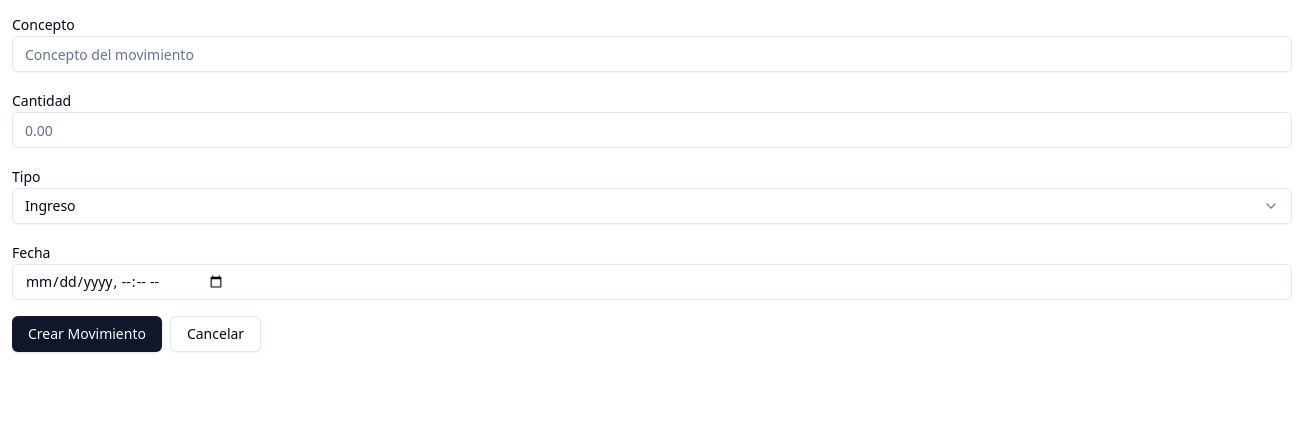
MovementForm Component › Create Mode › should validate required fields
The width and height of the screenshot is (1304, 442).
Click the button "Crear Movimiento" at (87, 334), box [12,316,162,352]
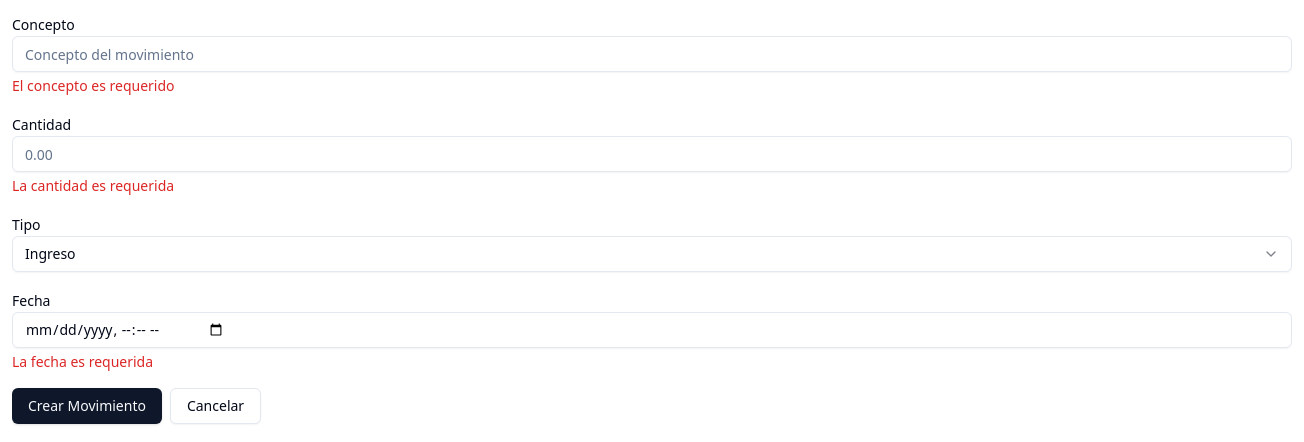
Expected: the text "El concepto es requerido" is shown, [12,76,174,95]
Expected: the text "La cantidad es requerida" is shown, [12,176,174,195]
Expected: the text "La fecha es requerida" is shown, [12,352,153,371]
